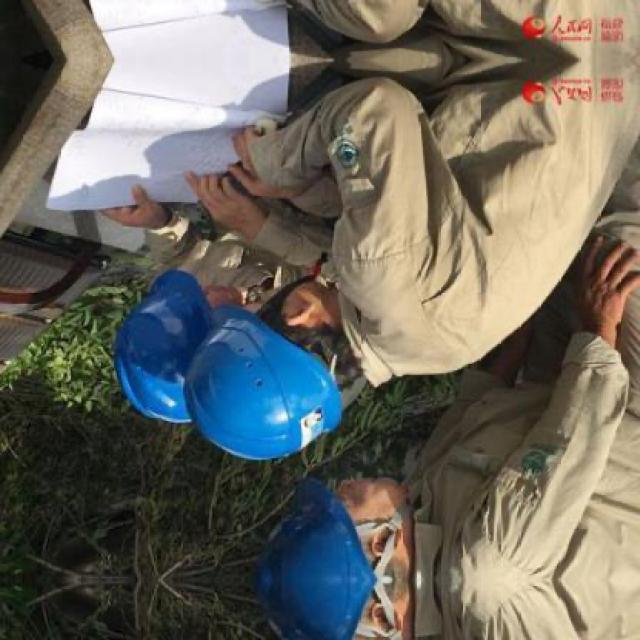con casco: (197, 277, 399, 460), (97, 260, 241, 418), (285, 460, 462, 579)
